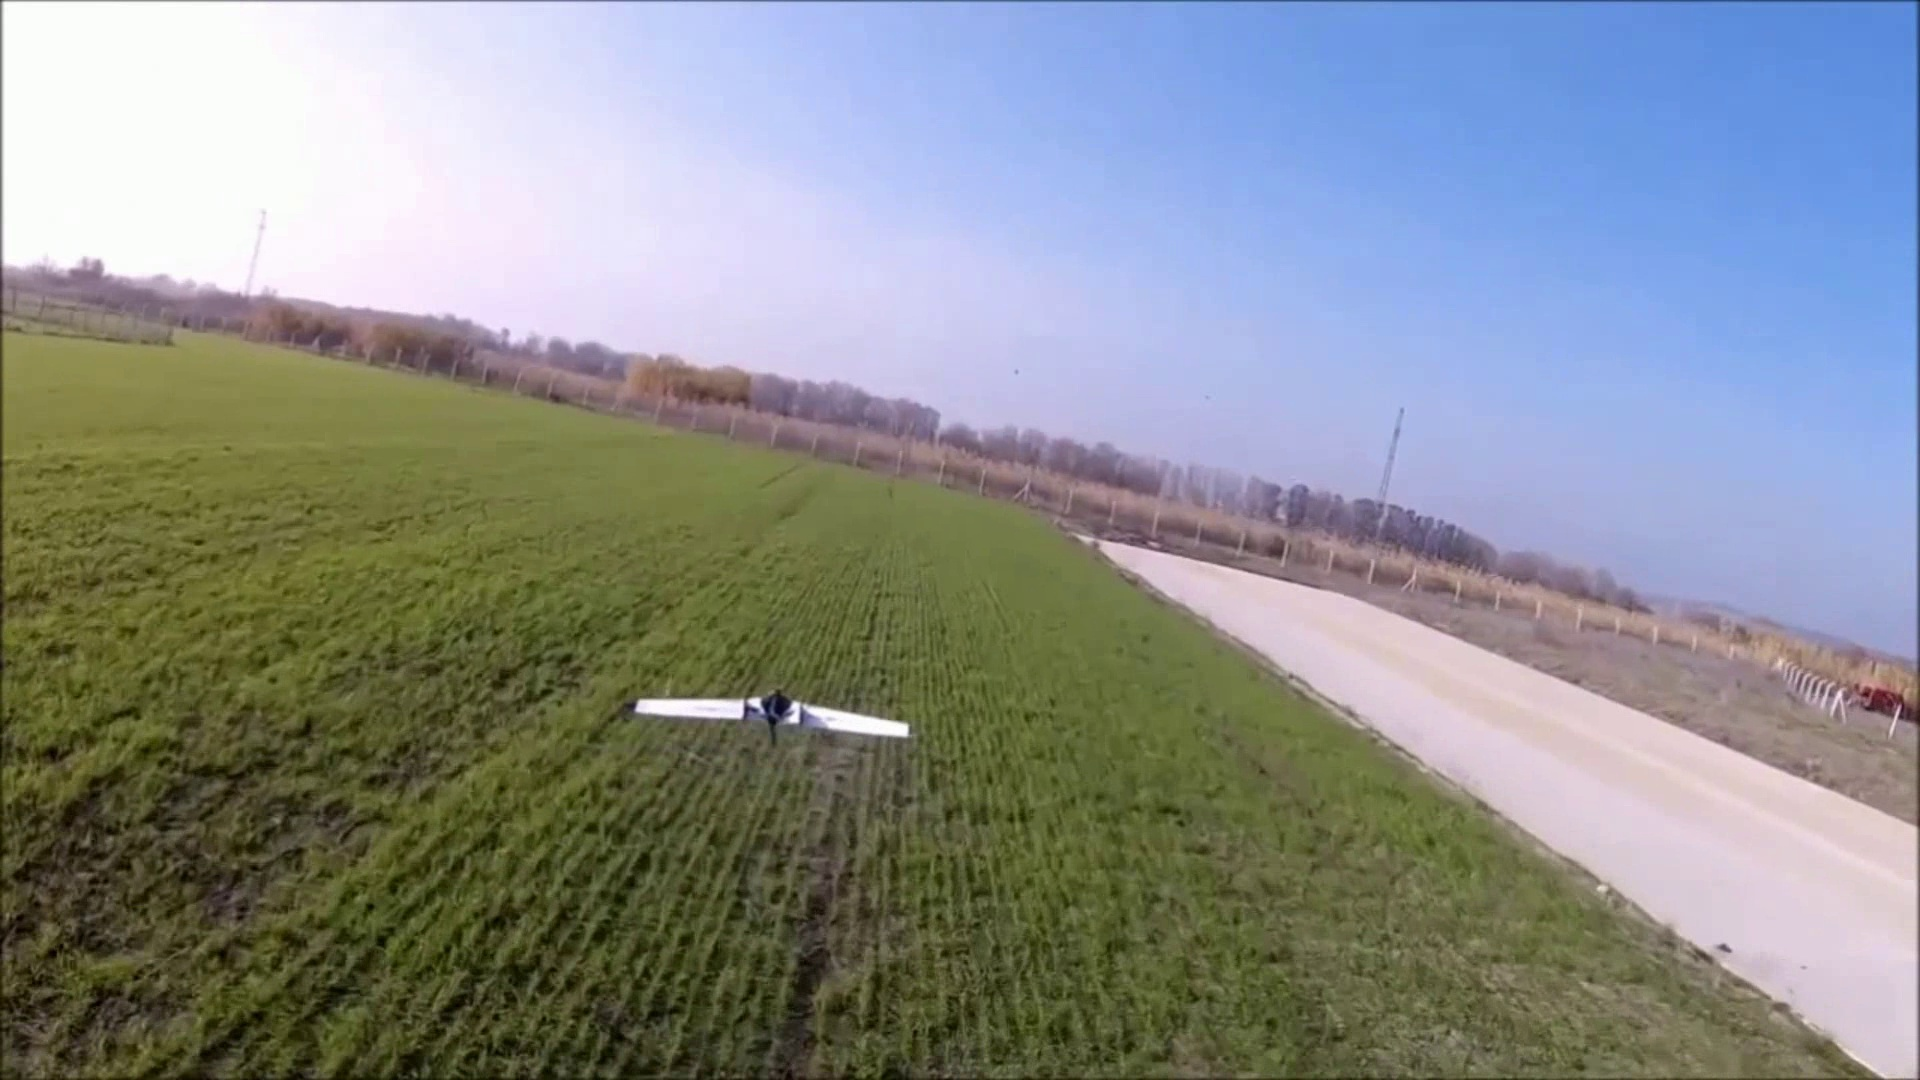airplane: (632, 690, 913, 744)
